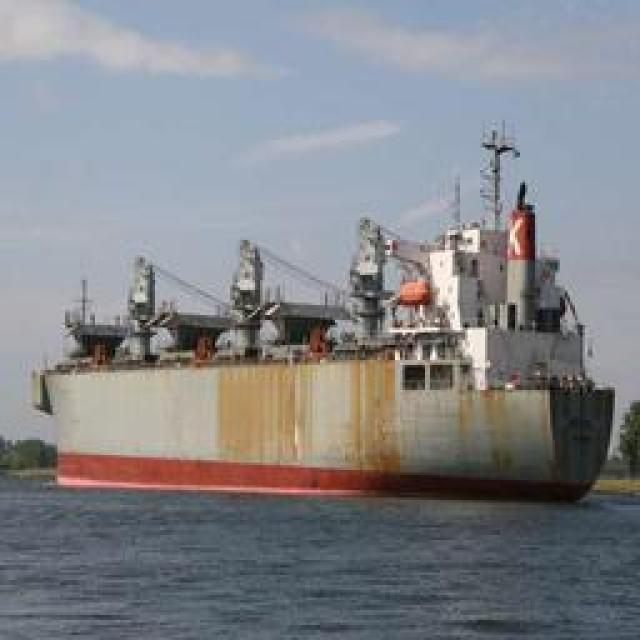ship2: (31, 125, 617, 503)
